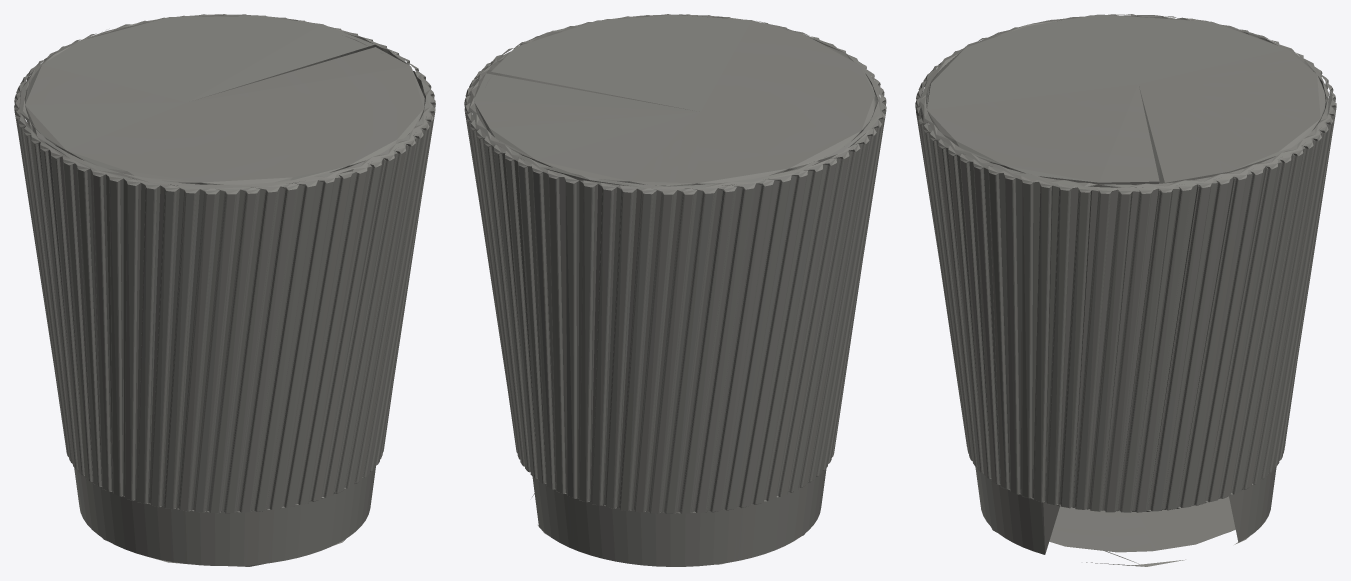
File: consumable_cup_paper_a01.glb
3 renders of one model, left to right at view 1: azimuth 30°, elevation 25°; view 2: azimuth 150°, elevation 25°; view 3: azimuth 270°, elevation 25°, orthographic.
Visible parts, largest first — view 1: geometry_0; view 2: geometry_0; view 3: geometry_0.
Boxes of the visible parts, x1,y1,x2,y2 form: geometry_0: (14, 14, 435, 566); geometry_0: (464, 14, 886, 566); geometry_0: (915, 14, 1336, 566).
Size of the model in its own units: 0.3933 by 0.42 by 0.3933.
Materials: 1 (1 with a texture image).
